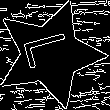L_E: (20, 32, 80, 76)
